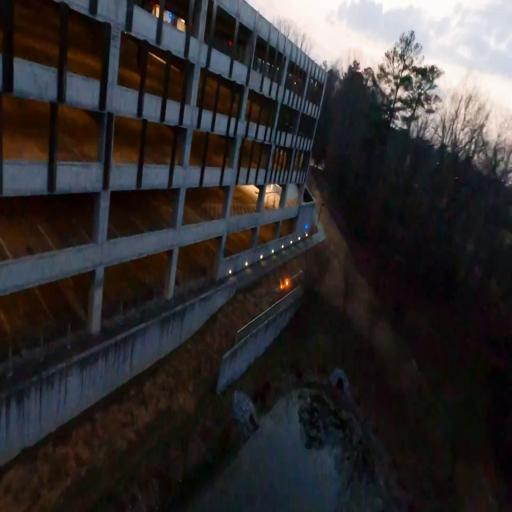uav: (264, 266, 305, 300)
